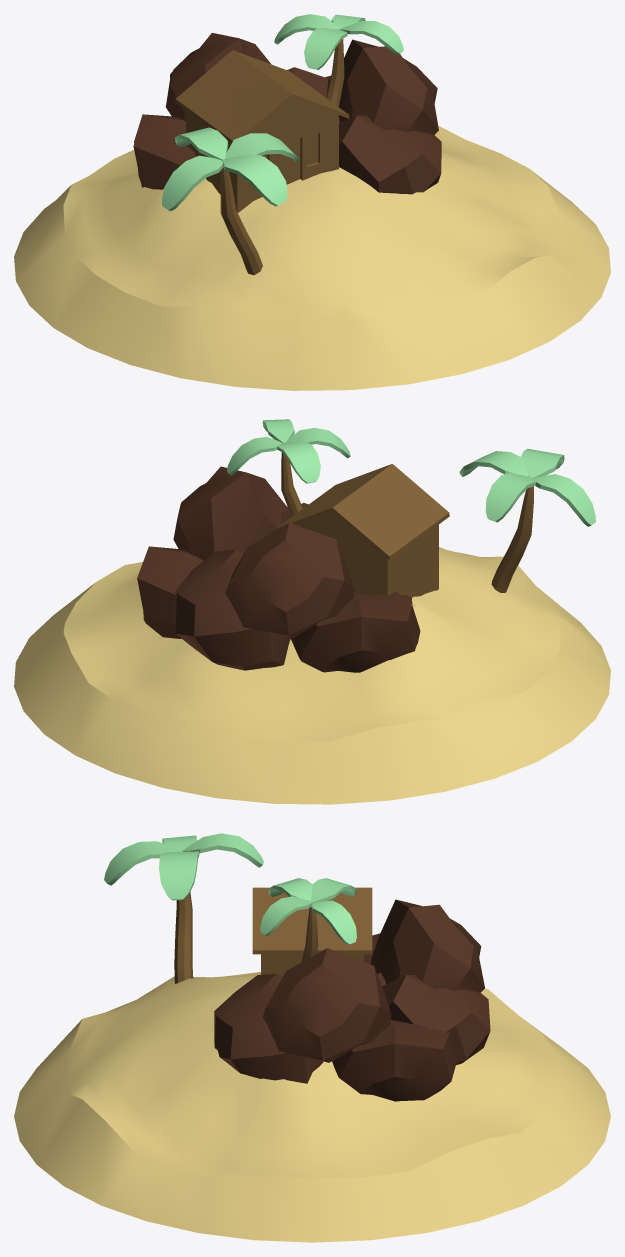
File: Low poly Final island model test 1.fbx
3 renders of one model, top to bottom at view 1: azimuth 30°, elevation 25°; view 2: azimuth 150°, elevation 25°; view 3: azimuth 270°, elevation 25°, orthographic.
Parts seen in each view (by area): view 1: Cube; view 2: Cube; view 3: Cube.
Boxes of the visible parts, bbox=[...] form: Cube: bbox=[14, 14, 610, 390]; Cube: bbox=[14, 419, 610, 804]; Cube: bbox=[14, 833, 610, 1242].
Bounding box in the file's own units: 311 × 311 × 135.
